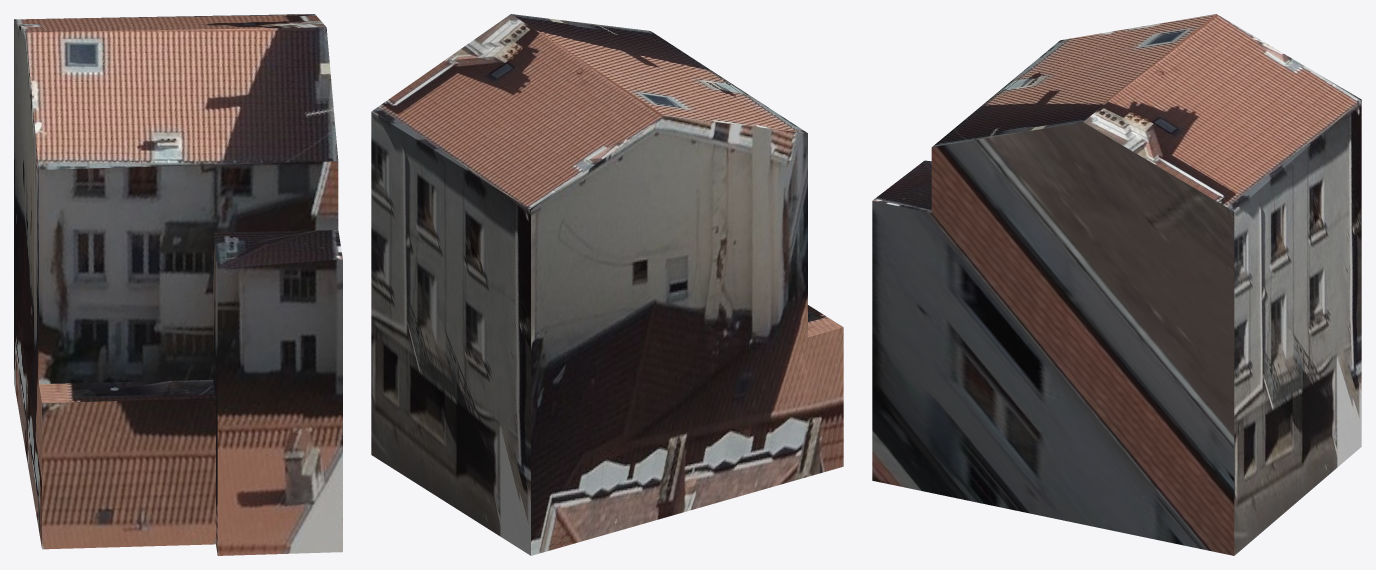
The picture shows the model from 3 angles, left to right: view 1: azimuth 30°, elevation 25°; view 2: azimuth 150°, elevation 25°; view 3: azimuth 270°, elevation 25°; orthographic projection. The views are drawn at different scales.
Visible parts, largest first — view 1: Z_UP; view 2: Z_UP; view 3: Z_UP.
Boxes of the visible parts, x1=… form: Z_UP: x1=14, y1=14, x2=342, y2=555; Z_UP: x1=371, y1=14, x2=843, y2=555; Z_UP: x1=872, y1=14, x2=1361, y2=555.
Bounding box in the file's own units: 16.31 × 17.1 × 18.83.
Materials: 2 (1 with a texture image).
